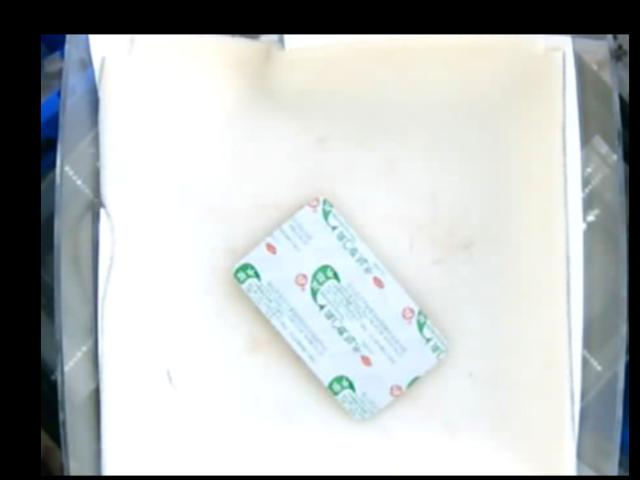Medicine: (234, 197, 448, 422)
